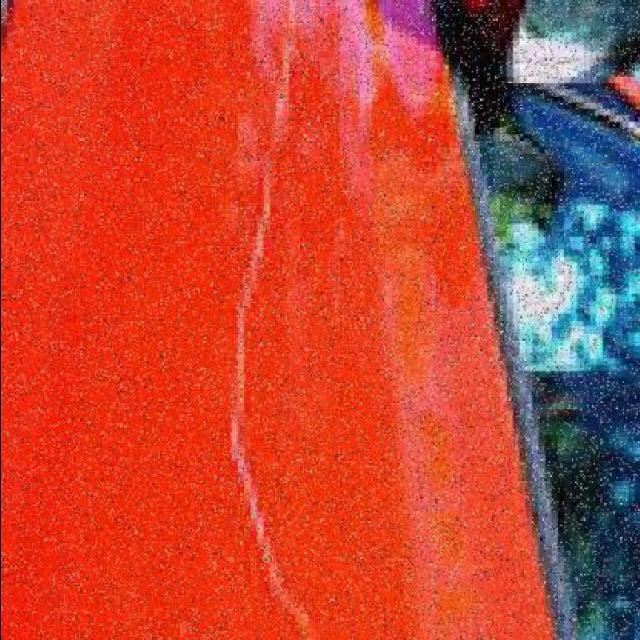doorouter-dent: (6, 6, 595, 633)
